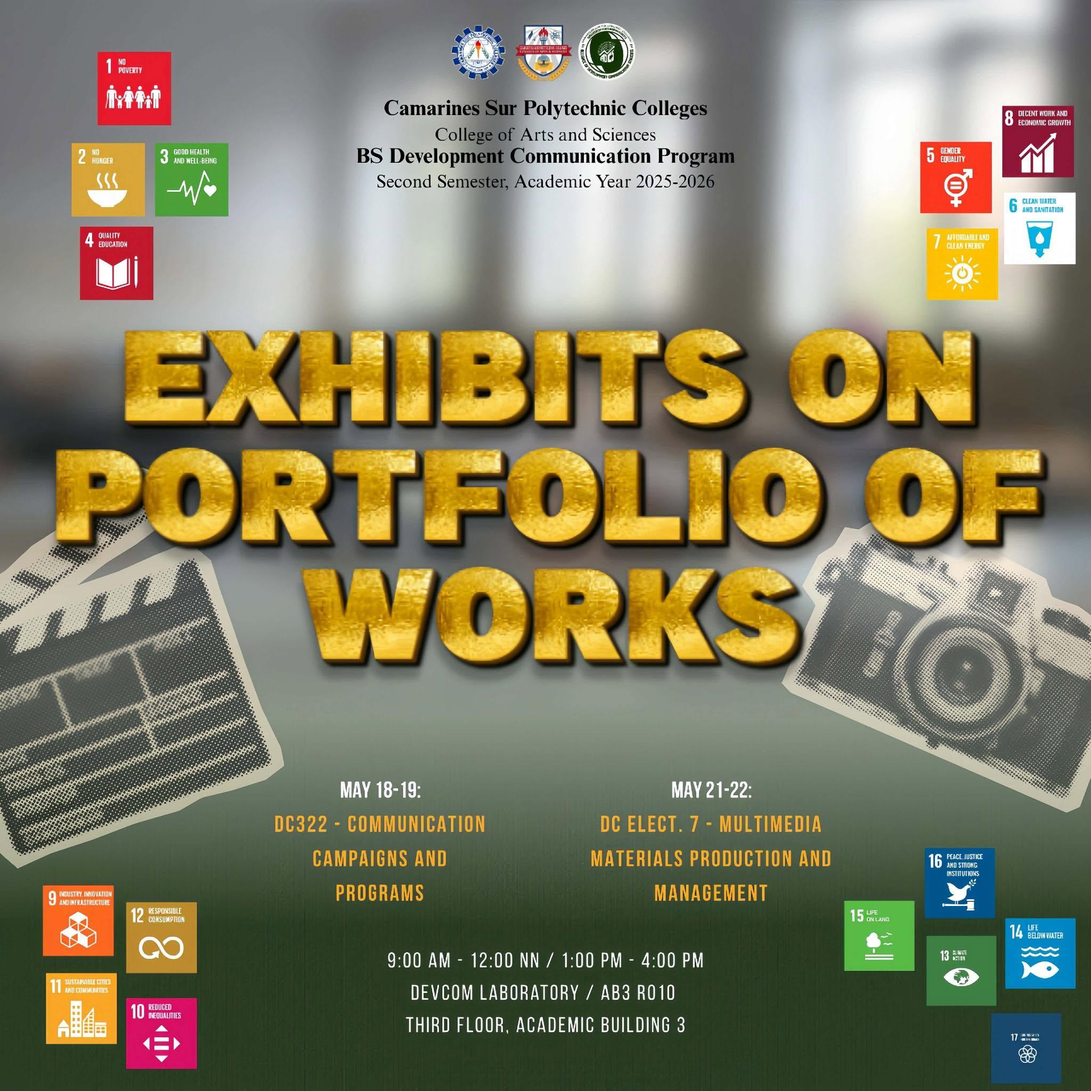embellishment: (0, 468, 287, 870), (782, 520, 1090, 814)
logo: (579, 21, 639, 84), (512, 24, 575, 83), (450, 24, 511, 83)
text: (44, 316, 1058, 675), (352, 93, 742, 195), (584, 769, 842, 909), (382, 941, 714, 1044), (272, 774, 495, 907)
underlay: (0, 0, 1090, 1090)
